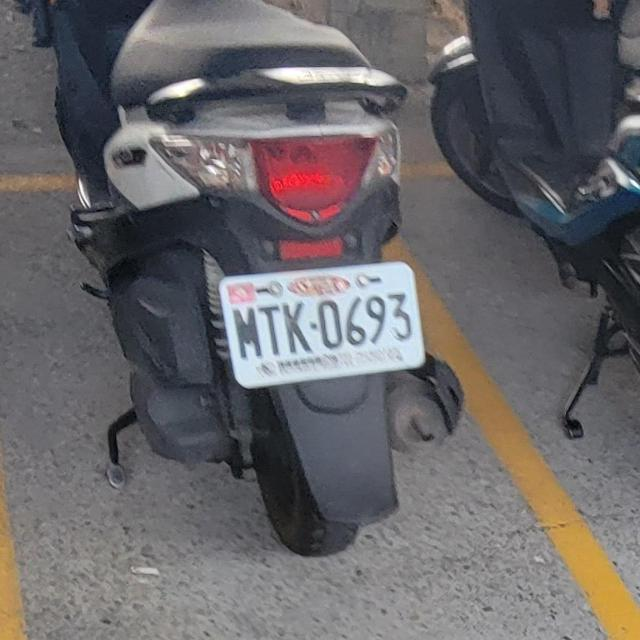W: (216, 256, 427, 391)
